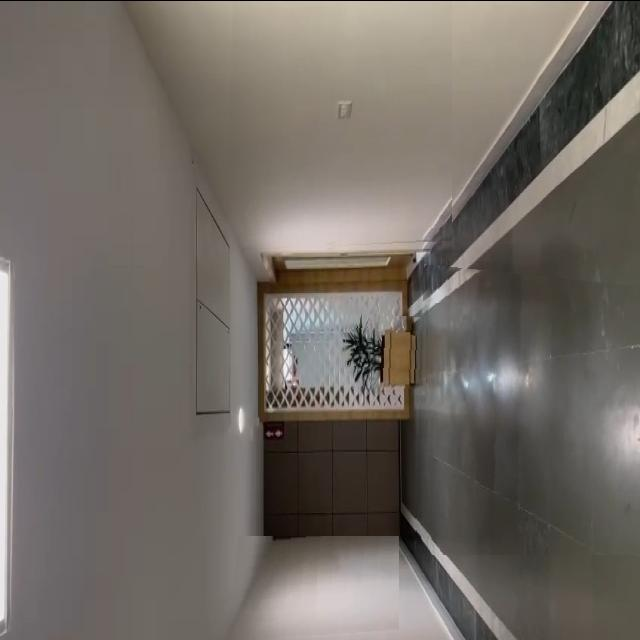floor: (415, 263, 640, 554)
furniture: (342, 312, 426, 394)
wall: (224, 0, 452, 250), (229, 535, 399, 640)
